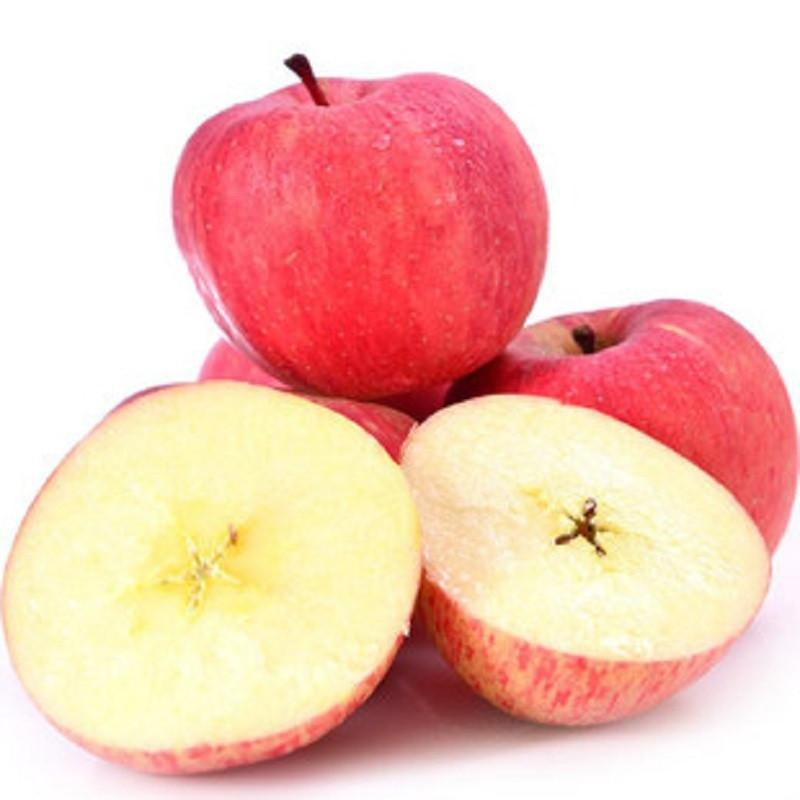apple: (165, 51, 547, 409), (441, 301, 795, 566)
